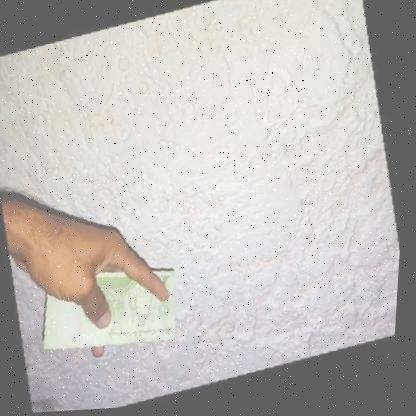fifty-back-vef: (40, 261, 185, 361)
